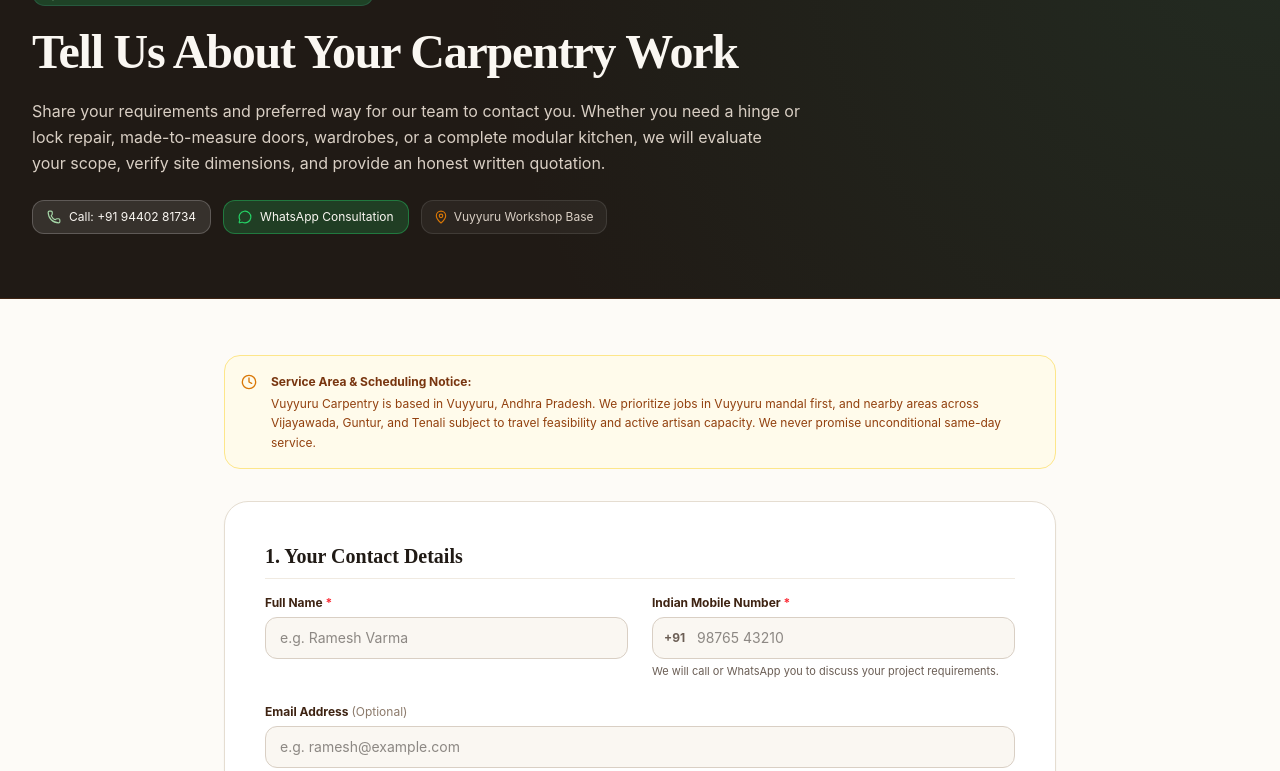
Screen 09: Contact & Site-Visit Request Acceptance Tests › 6. successfully submits enquiry, returns reference VC-ENQ-2026-XXXX, and displays confirmation
Note: Fill form
In the field labelled "Full Name *": {"x": 446, "y": 638} [265, 617, 628, 659], type "Suresh Raju"
In the field labelled "Indian Mobile Number *": {"x": 834, "y": 638} [652, 617, 1015, 659], type "9848022334"
In the field labelled "Email Address (Optional)": {"x": 640, "y": 746} [265, 726, 1015, 768], type "suresh@example.com"
(page scrolled)
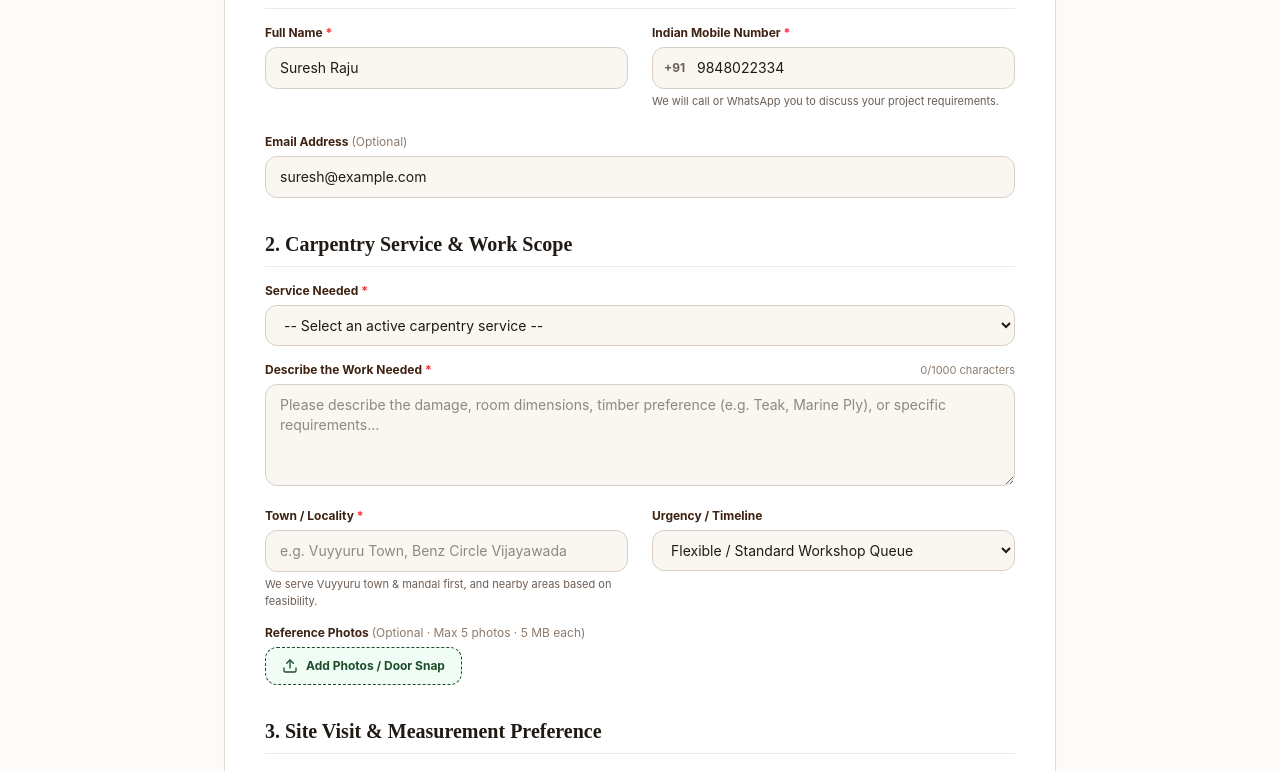
Select "Carpentry Repairs & Hardware Maintenance (Indicative Estimate)" in the dropdown labelled "Service Needed *": {"x": 640, "y": 325} [265, 304, 1015, 346]
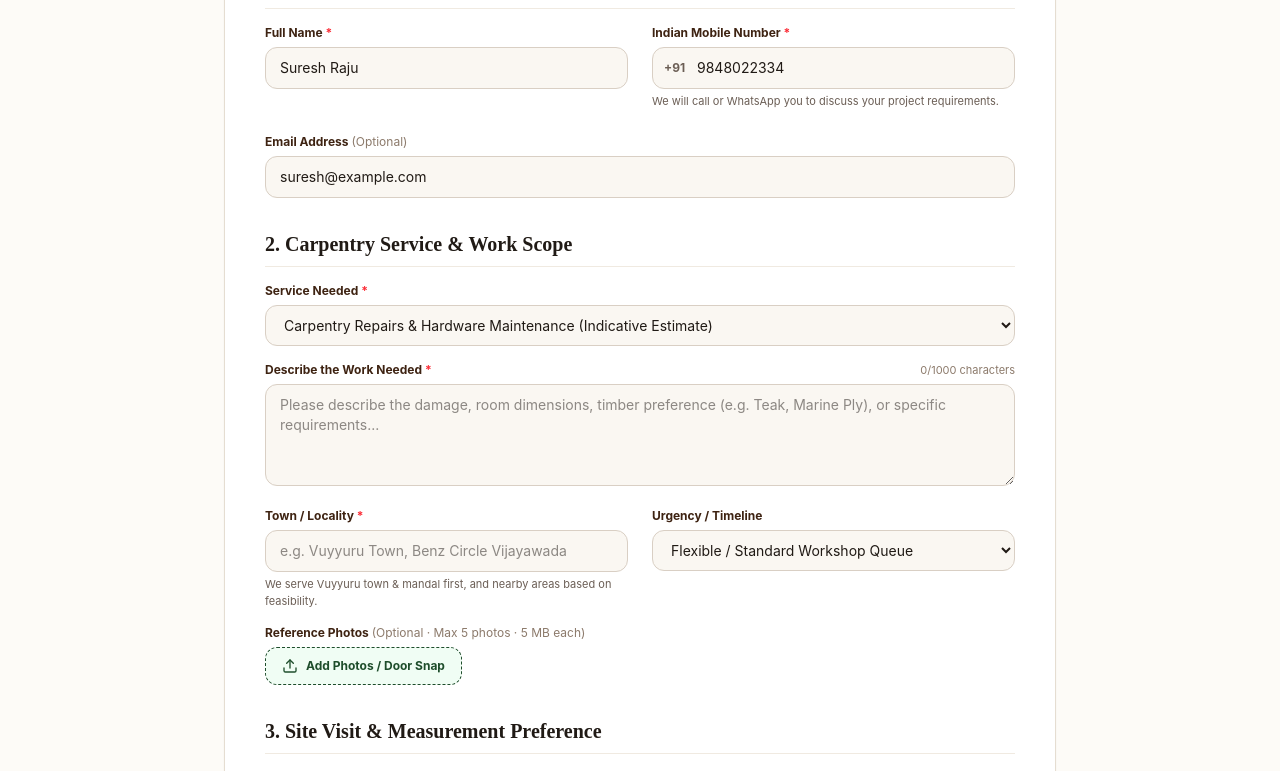
Replace the text in the text box labelled "Describe the Work Needed *" with "Main teak door hinges are loose and sticking to the frame.": {"x": 640, "y": 435} [265, 384, 1015, 486]
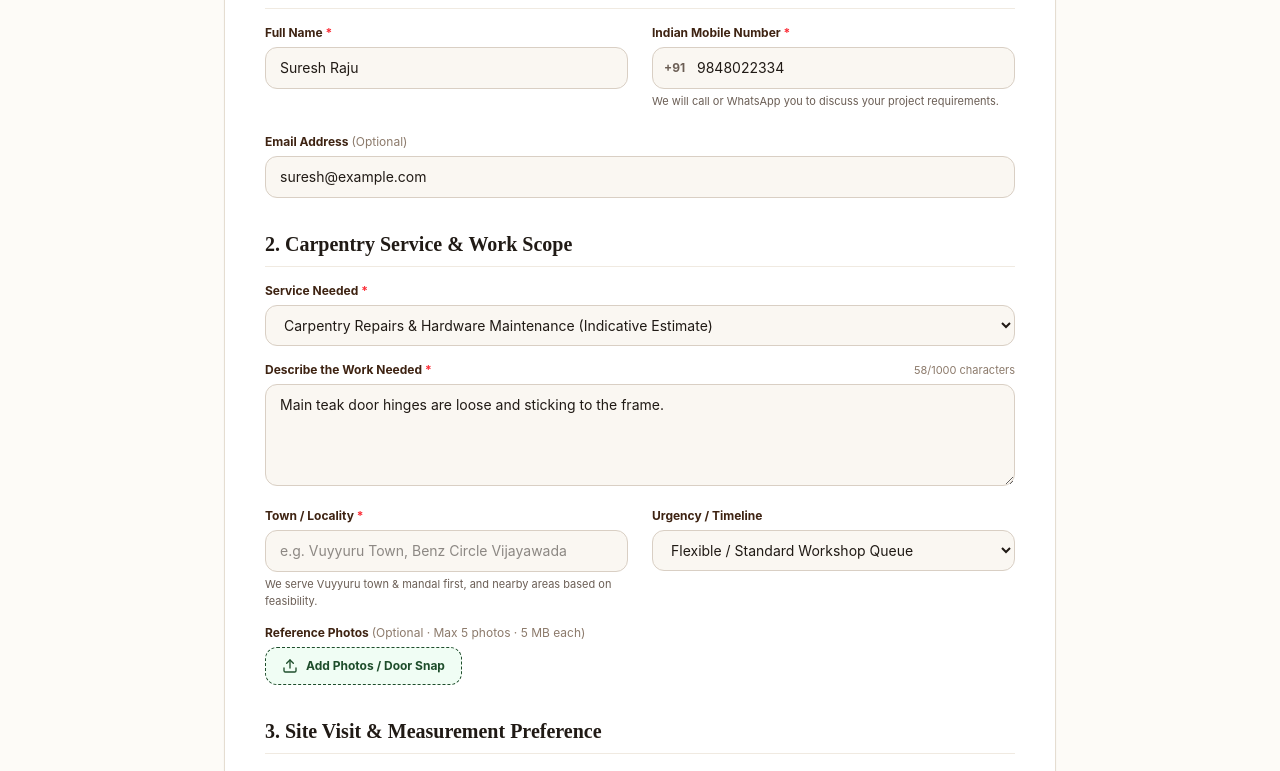
In the field labelled "Town / Locality *": {"x": 446, "y": 551} [265, 530, 628, 572], type "Vuyyuru Katuru Road"
(page scrolled)
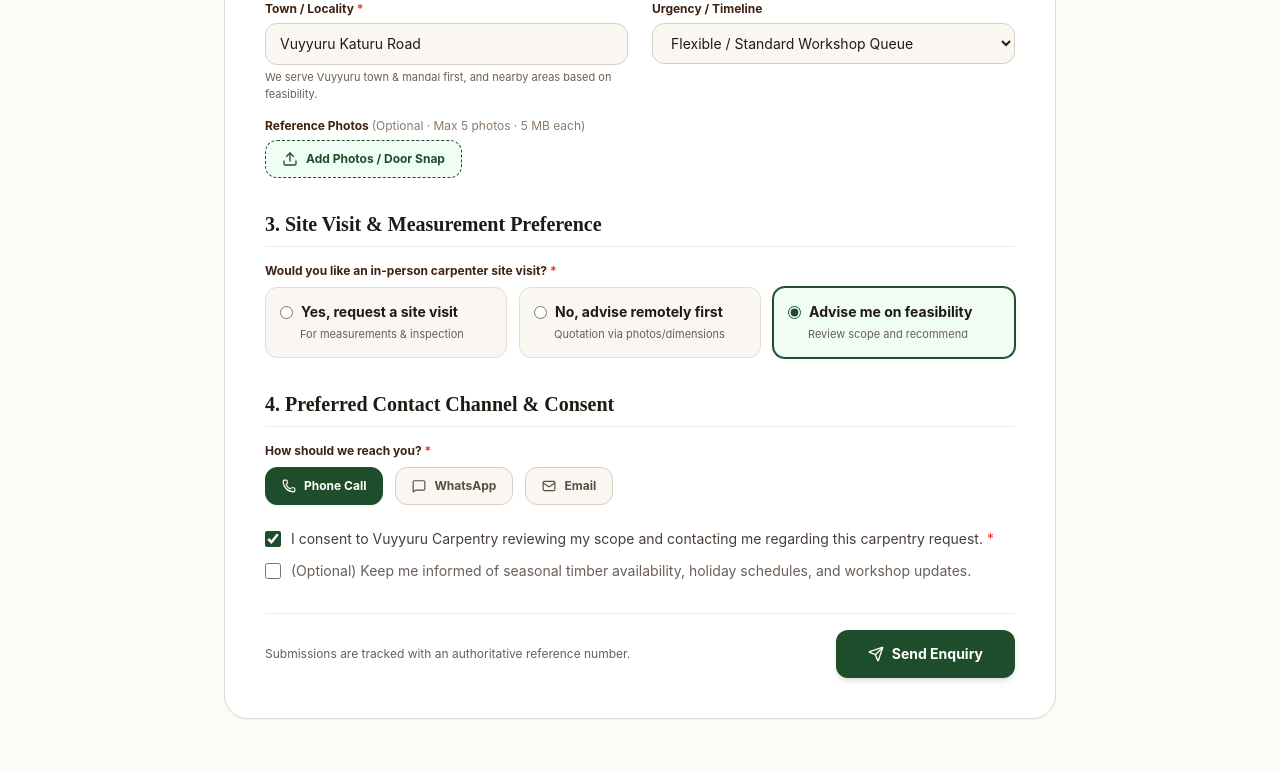
Note: Select WhatsApp as contact method
Click the text "WhatsApp": {"x": 465, "y": 486} [434, 478, 496, 494]
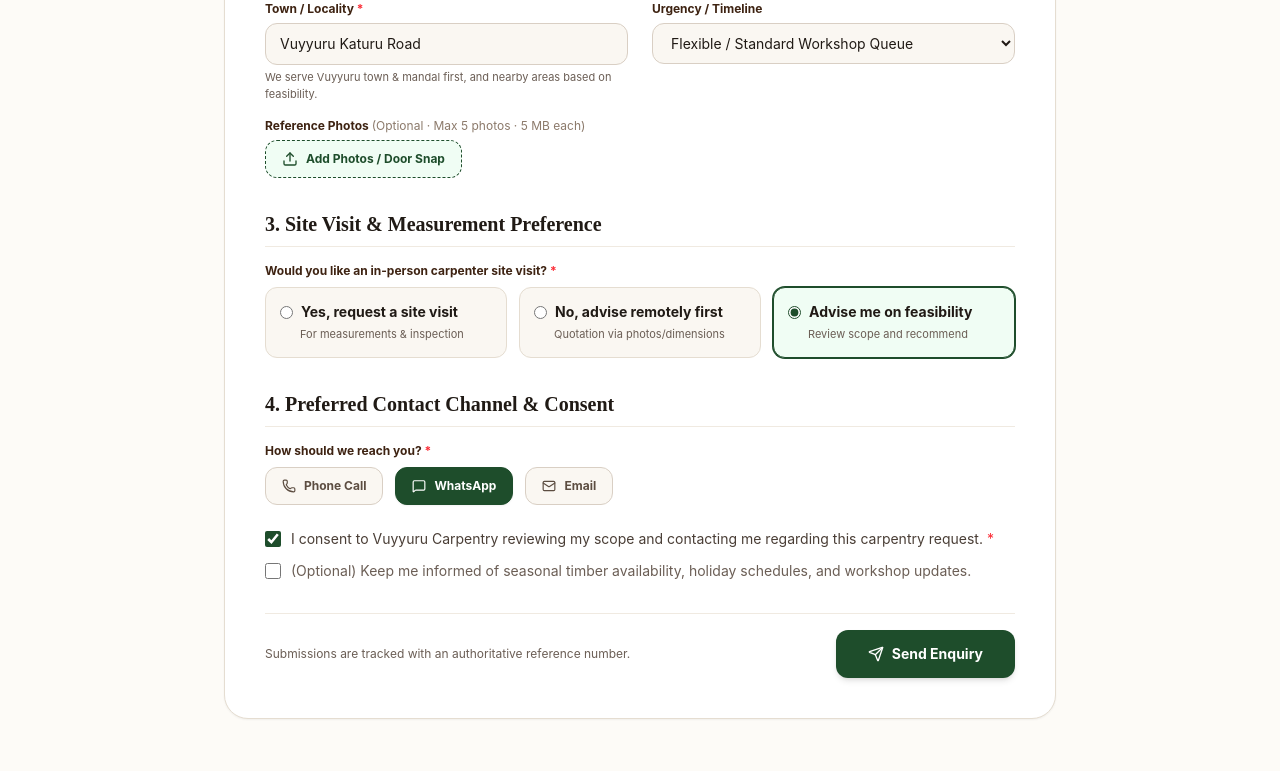
Note: Submit form
Click the button "Send Enquiry": {"x": 925, "y": 654} [836, 630, 1015, 678]
(page scrolled)
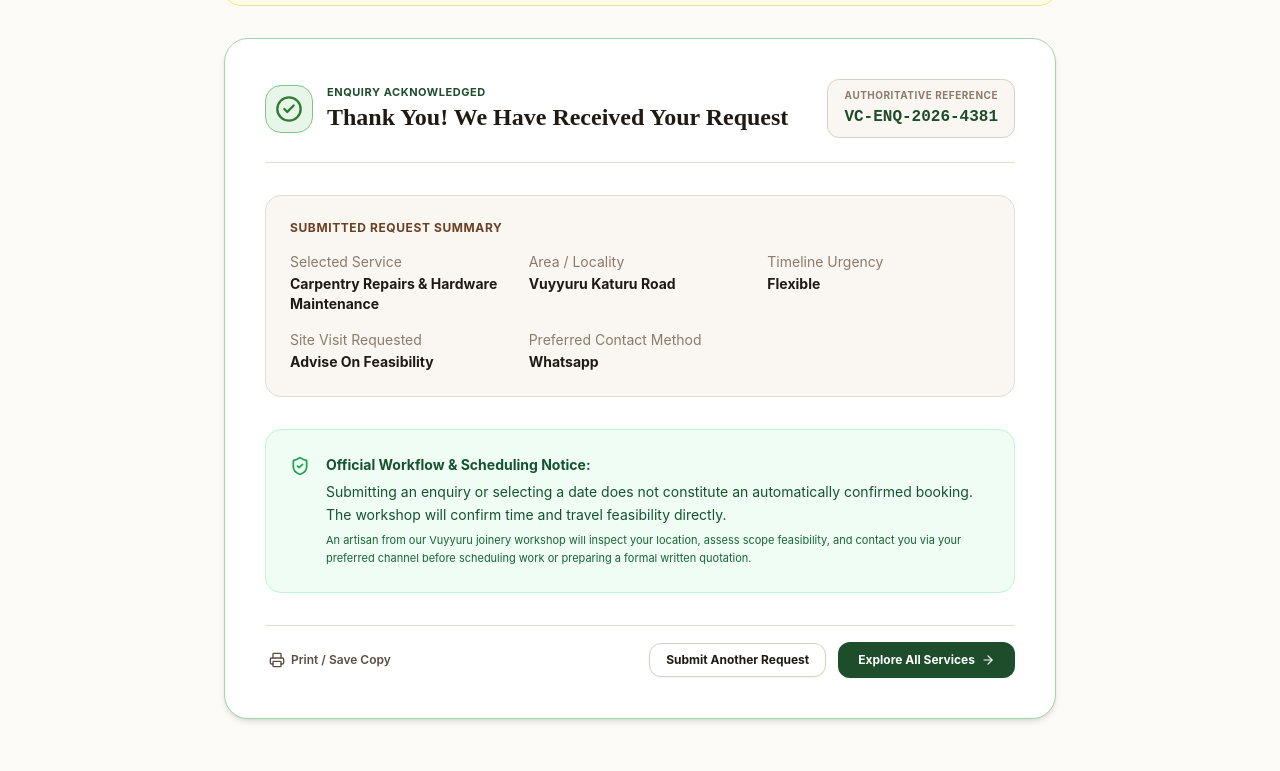
Expected: the element with test id "contact-confirmation-panel" is shown, [224, 38, 1056, 719]
Expected: the heading "Thank You! We Have Received Your Request" is shown, [327, 101, 788, 133]
Expected: the text "VC-ENQ-2026-4381" is shown, [844, 108, 998, 126]
